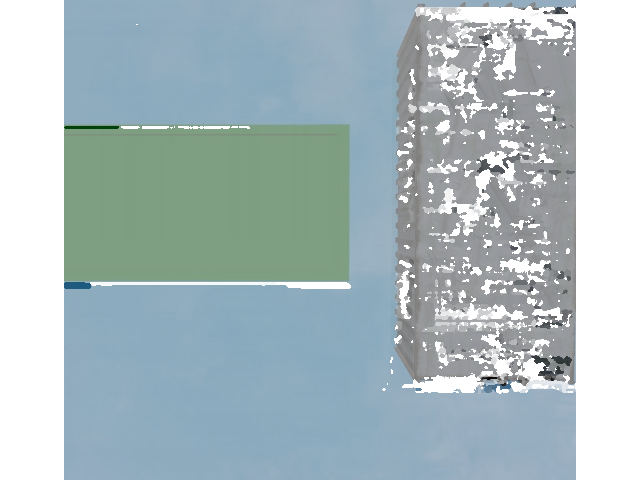container1: (390, 0, 587, 387)
container2: (17, 119, 354, 287)
